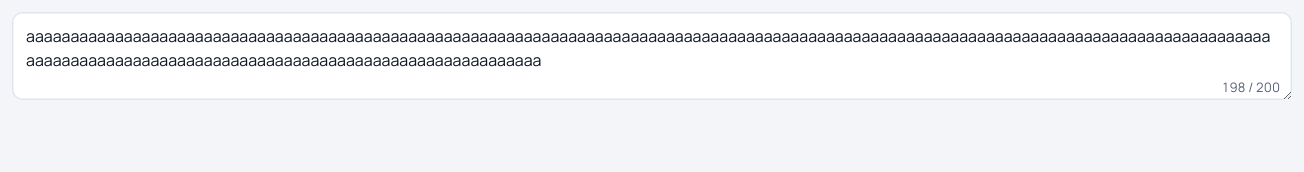
Scenario: TextareaWithCounter › counts what is written and refuses the character past the limit
Expected: the text "198 / 200" is shown, [1221,78,1280,96]
Type "bcd" into the text box at (652, 56), box [12,12,1292,100]
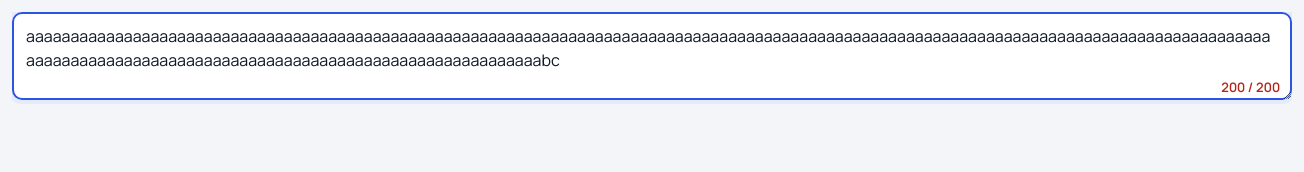
Now the text "200 / 200" is shown, box [1221,78,1280,96]
